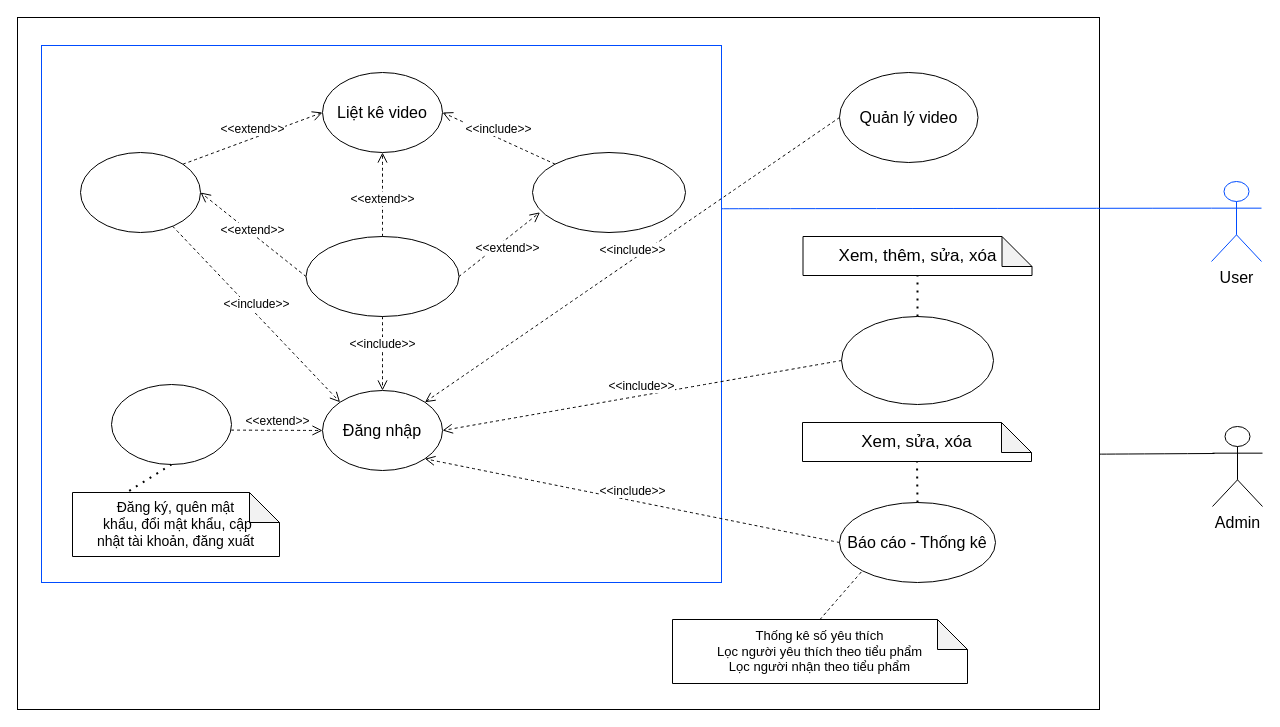
This 1280x727 diagram has some shape labels left out. Each missing label, with the box of its shape:
Like, Dislike, share: (305, 236, 459, 316)
Liệt kê video yêu thích: (80, 152, 200, 232)
Quản lý tài khoản: (110, 384, 232, 464)
Quản lý user: (840, 316, 994, 404)
Xem chi tiết tiểu phẩm: (532, 152, 686, 232)
